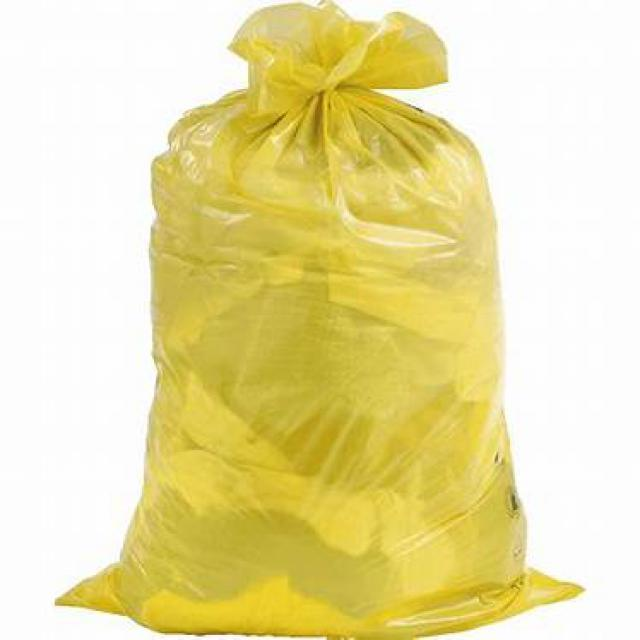waste: (70, 7, 570, 637)
